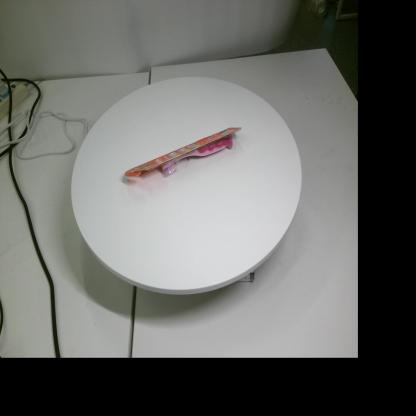Personal Hygiene: (125, 127, 242, 177)
